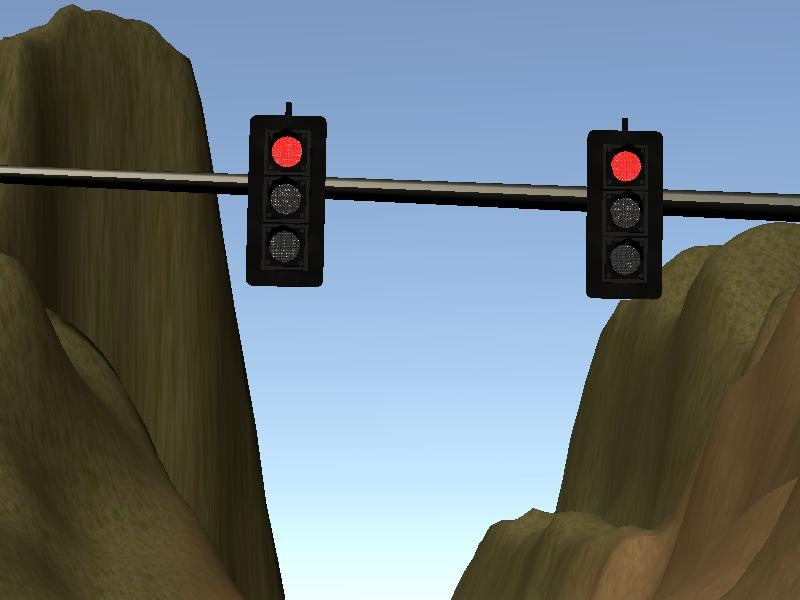RED: (247, 116, 327, 289), (586, 131, 664, 297)
